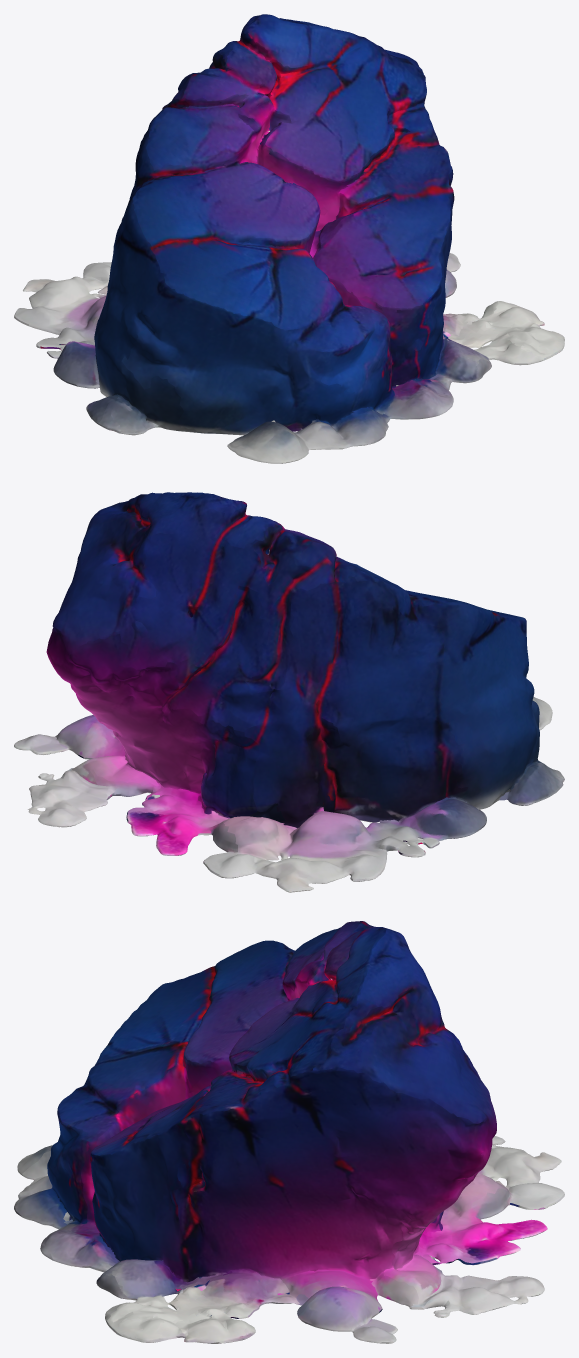
The model's file is shore-stone-9-generated-2026-05-17T20-16-34-309Z.high.glb.
The picture shows the model from 3 angles, top to bottom: view 1: azimuth 30°, elevation 25°; view 2: azimuth 150°, elevation 25°; view 3: azimuth 270°, elevation 25°; orthographic projection. The views are drawn at different scales.
Parts seen in each view (by area): view 1: temp_mesh.ply; view 2: temp_mesh.ply; view 3: temp_mesh.ply.
Boxes of the visible parts, left/top/right/bottom form: temp_mesh.ply: left=14, top=14, right=564, bottom=463; temp_mesh.ply: left=14, top=492, right=564, bottom=892; temp_mesh.ply: left=14, top=921, right=564, bottom=1343.
Bounding box in the file's own units: 1.97 × 1.24 × 1.97.
Materials: 1 (1 with a texture image).
